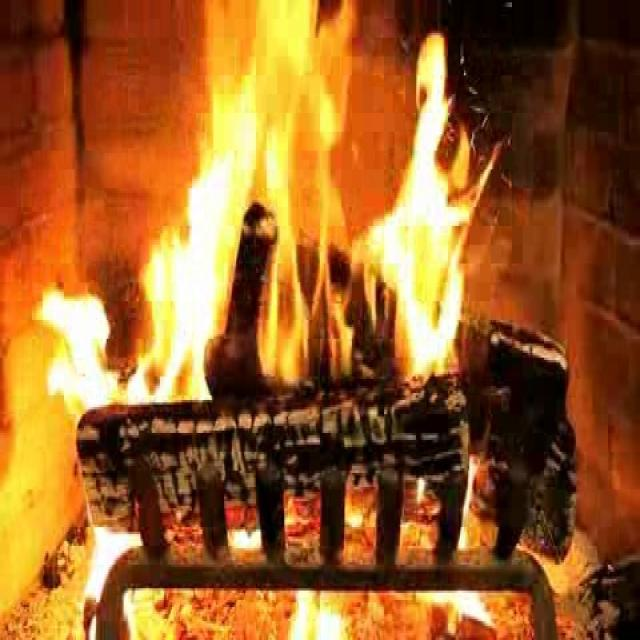Fire: (140, 7, 497, 406)
